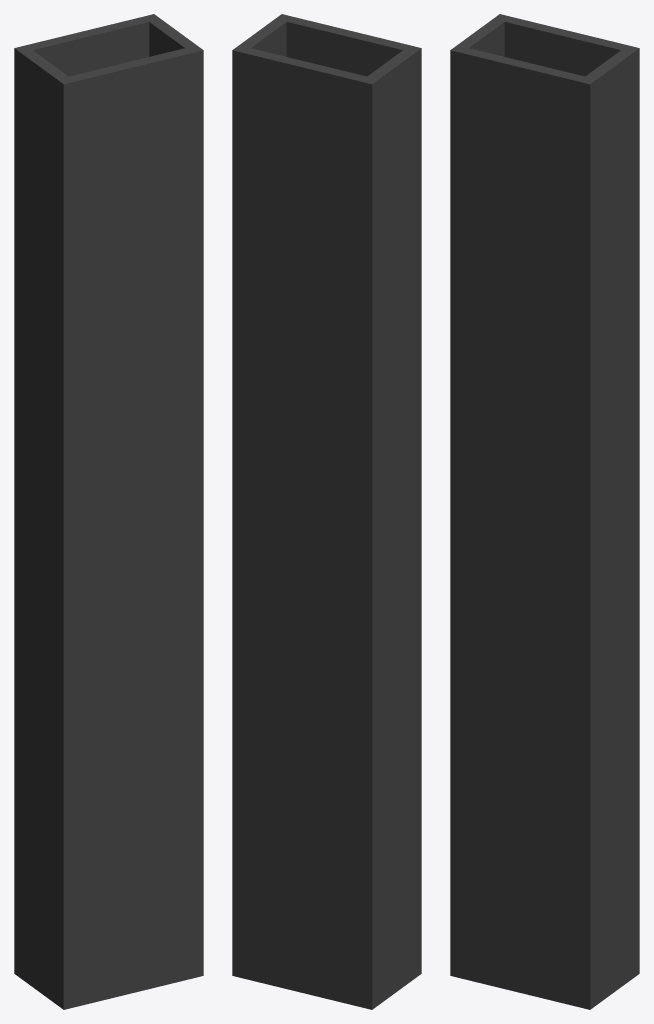
File: SMG1_01_2.fbx
3 views of the same model, side by side, from view 1: azimuth 30°, elevation 25°; view 2: azimuth 150°, elevation 25°; view 3: azimuth 330°, elevation 25° (orthographic).
Visible parts, largest first — view 1: SMG1_01_2; view 2: SMG1_01_2; view 3: SMG1_01_2.
Part boxes in pixels (x1=…): SMG1_01_2: x1=14, y1=14, x2=203, y2=1009; SMG1_01_2: x1=232, y1=14, x2=421, y2=1009; SMG1_01_2: x1=450, y1=14, x2=639, y2=1009.
Size of the model in its own units: 0.0354 by 0.2241 by 0.0217.
